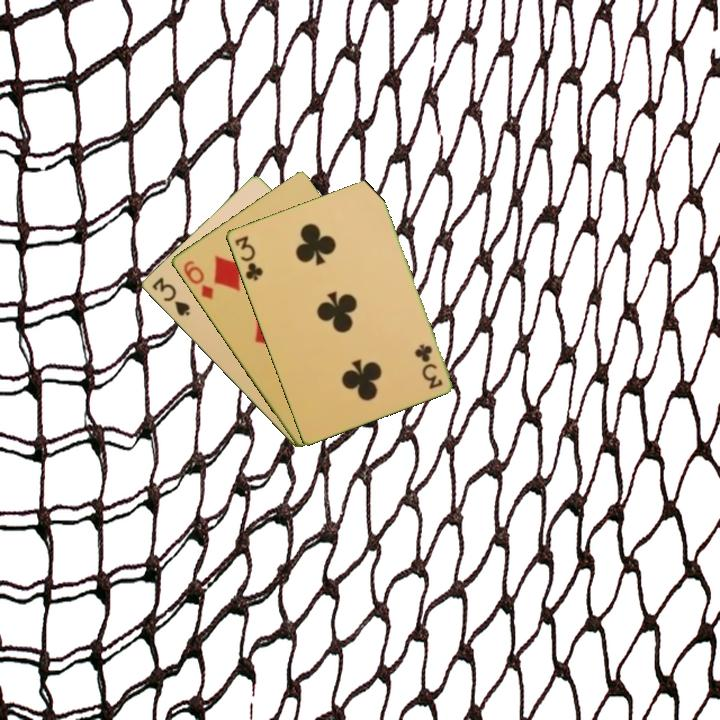3c: (231, 232, 266, 284), (412, 340, 445, 391)
3s: (148, 274, 193, 319)
6d: (179, 257, 216, 303)
